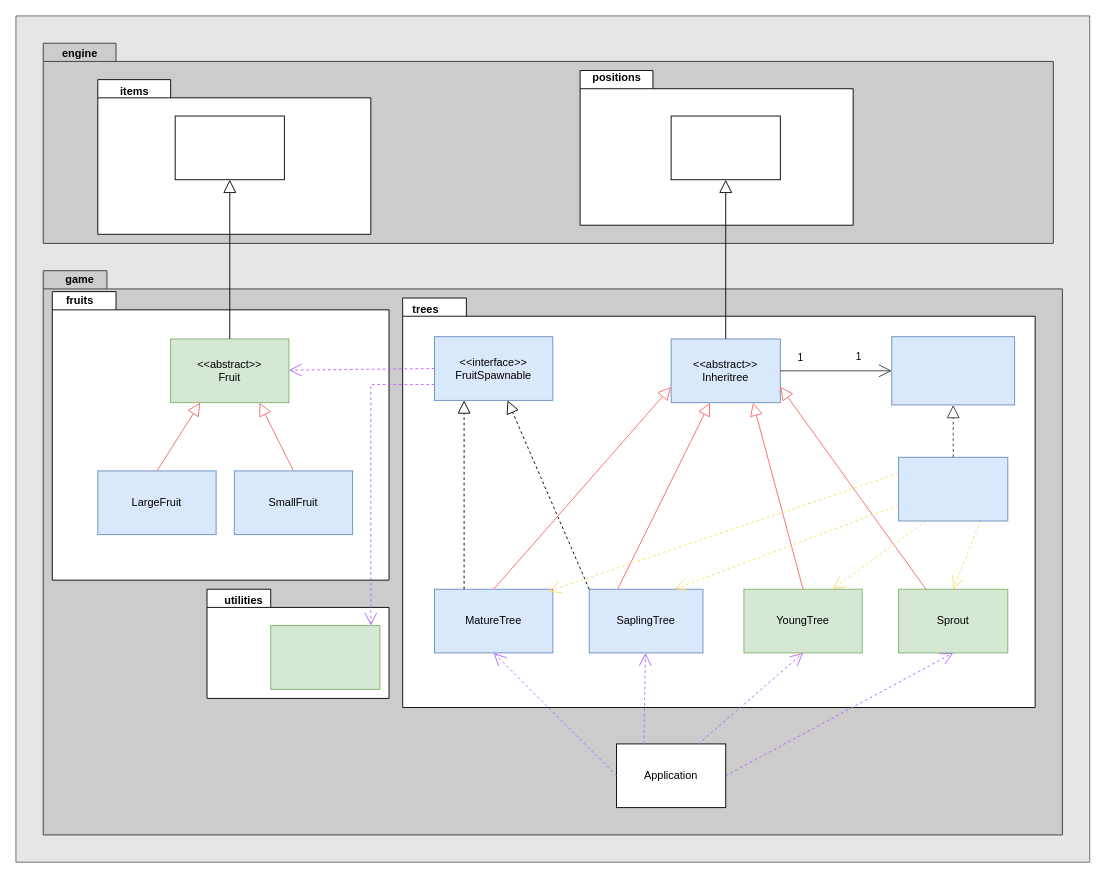
Some shapes in this 1106 by 878 pixel diagram are drawn without their labels. The centre of each missing label's shape, as x and y in pixels:
<<abstract>> Ground: [725,147]
<<abstract>> Item: [229,147]
<<interface>> TreeFactory: [953,370]
SelectRandomExit: [325,657]
TreeStageFactory: [953,488]
